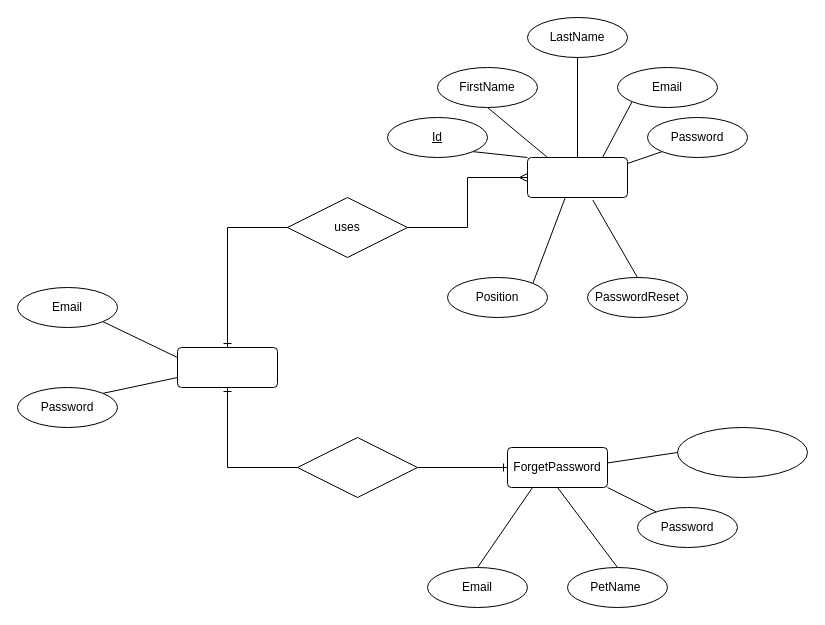
Image size: 825x625. Some labels were removed from this diagram. Here are the shapes that lost their labels. From the top down, the box of each, then its label:
(526, 156, 628, 198): User
(176, 346, 278, 388): Login
(296, 436, 418, 498): has
(676, 426, 808, 478): ConfirmationPassword
